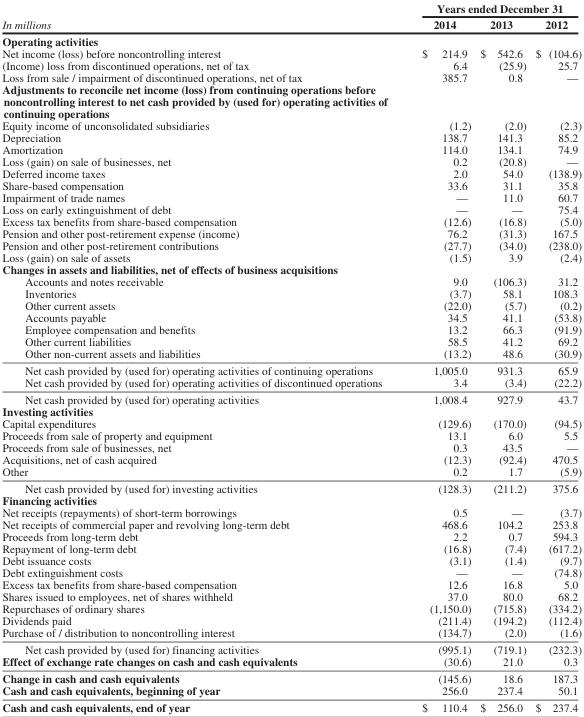table: (1, 1, 581, 713)
table column: (1, 1, 401, 713), (401, 1, 474, 713), (474, 1, 530, 713), (530, 1, 581, 713)
table column header: (1, 1, 581, 32)
table projected row header: (1, 83, 581, 119), (1, 32, 581, 47), (1, 263, 581, 275), (1, 405, 581, 417), (1, 494, 581, 506)
table row: (1, 83, 581, 119), (1, 16, 581, 32), (1, 1, 581, 16), (1, 32, 581, 47), (1, 361, 581, 376), (1, 390, 581, 405), (1, 479, 581, 494), (1, 640, 581, 655), (1, 669, 581, 684), (1, 698, 581, 713), (1, 347, 581, 361), (1, 376, 581, 390), (1, 465, 581, 479), (1, 626, 581, 640), (1, 655, 581, 669), (1, 684, 581, 698), (1, 47, 581, 59), (1, 59, 581, 71), (1, 71, 581, 83), (1, 119, 581, 131), (1, 131, 581, 143), (1, 143, 581, 155), (1, 155, 581, 167), (1, 167, 581, 179), (1, 179, 581, 191), (1, 191, 581, 203), (1, 203, 581, 215), (1, 215, 581, 227), (1, 227, 581, 239), (1, 239, 581, 251), (1, 251, 581, 263), (1, 263, 581, 275), (1, 275, 581, 287), (1, 287, 581, 299), (1, 299, 581, 311), (1, 311, 581, 323), (1, 323, 581, 335), (1, 335, 581, 347), (1, 405, 581, 417), (1, 417, 581, 429), (1, 429, 581, 441), (1, 441, 581, 453), (1, 453, 581, 465), (1, 494, 581, 506), (1, 506, 581, 518), (1, 518, 581, 530), (1, 530, 581, 542), (1, 542, 581, 554), (1, 554, 581, 566), (1, 566, 581, 578), (1, 578, 581, 590), (1, 590, 581, 602), (1, 602, 581, 614), (1, 614, 581, 626)
table spanning cell: (1, 1, 401, 32), (401, 1, 581, 16)
